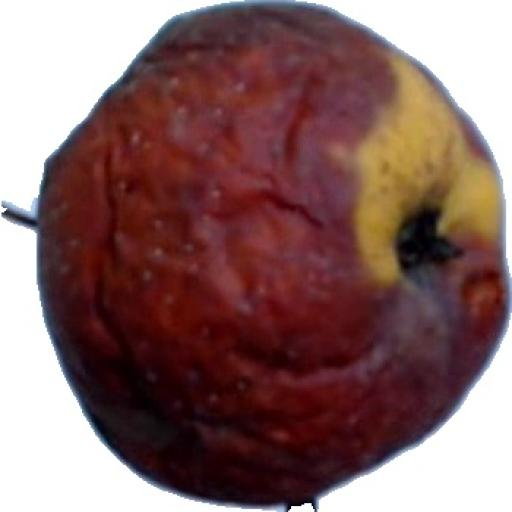apple-overripe: (0, 0, 512, 460)
